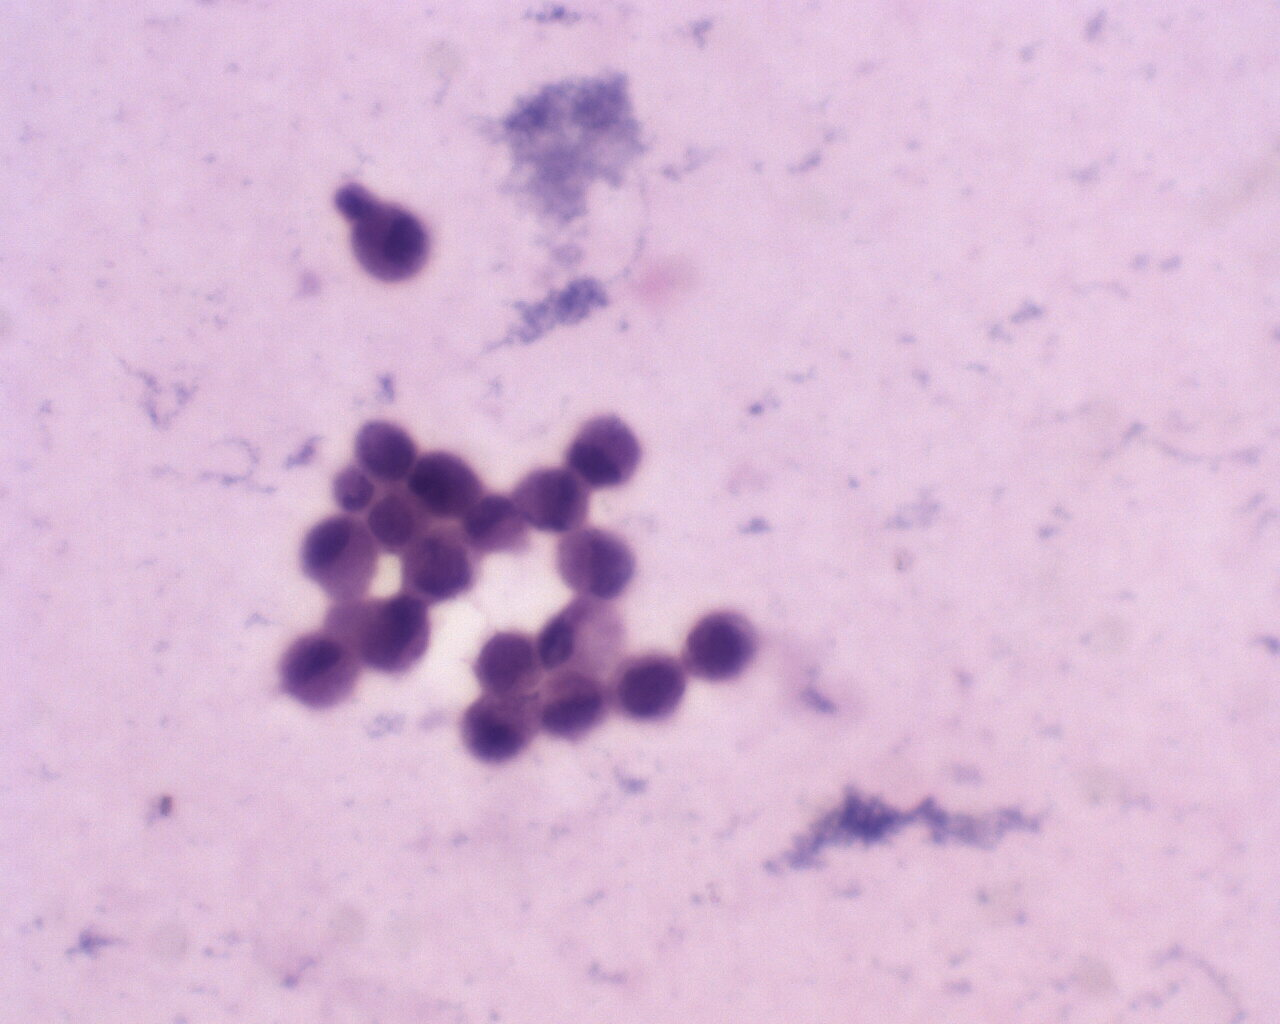ab: (277, 623, 363, 714), (351, 592, 433, 678), (399, 528, 486, 608), (552, 520, 646, 595), (300, 513, 378, 600), (352, 199, 428, 284), (453, 691, 539, 767), (513, 463, 600, 536), (686, 608, 765, 689), (406, 445, 487, 523), (607, 648, 689, 724), (473, 626, 543, 696)
